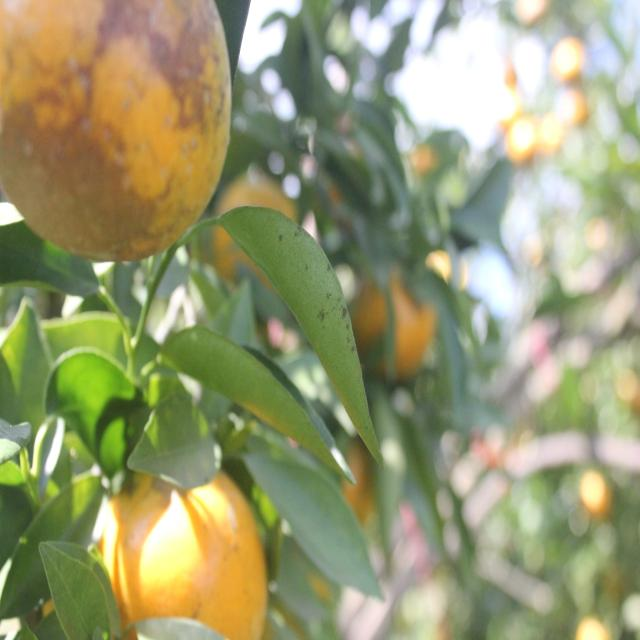melanose: (267, 220, 378, 450)
